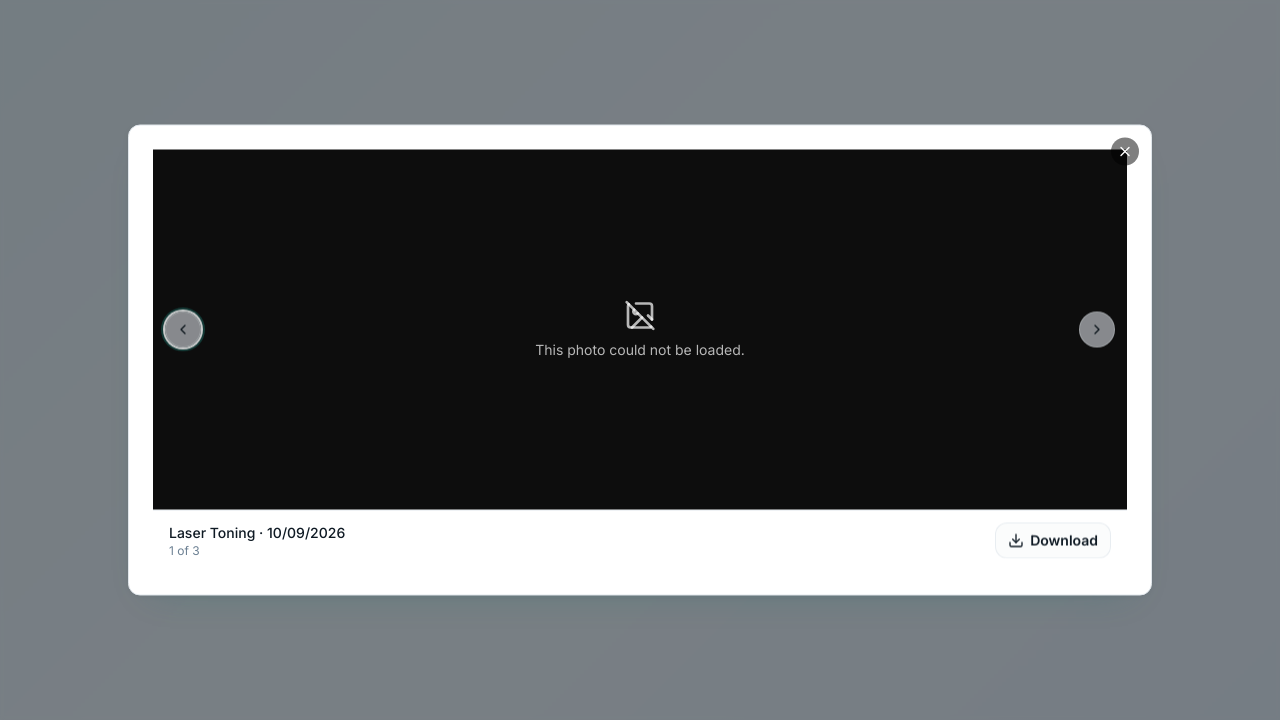
Scenario: PhotoViewer › gives a failed photo's neighbour a fresh chance to load
Expected: the text "This photo could not be loaded." is shown, x1=535 y1=340 x2=745 y2=360
What coordinates should you click on to do the following:
click the button named "Next photo"
I would click on:
 (1097, 330)
Its box is x1=1079 y1=312 x2=1115 y2=348.
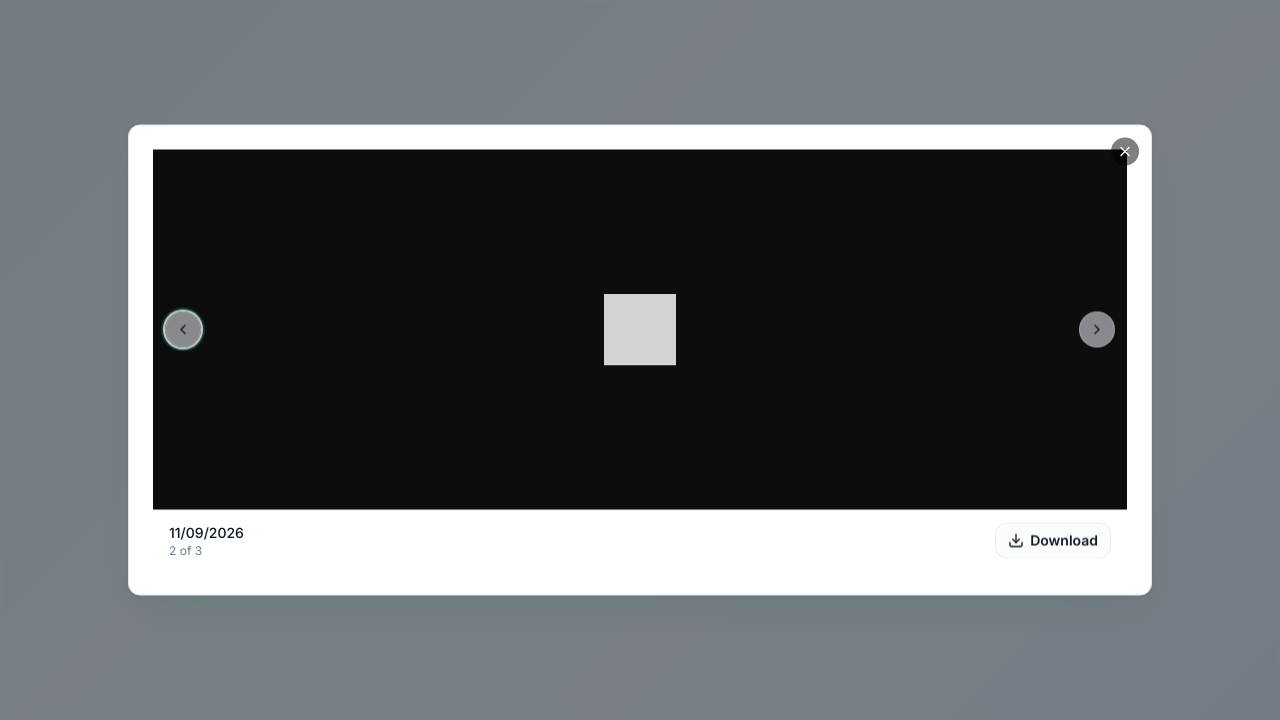
Now the text "could not be loaded" is gone
